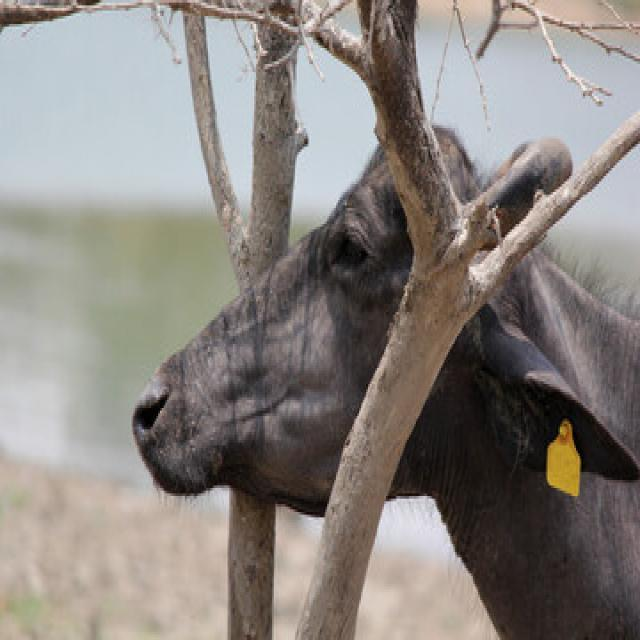Buffalo: (130, 115, 638, 637)
